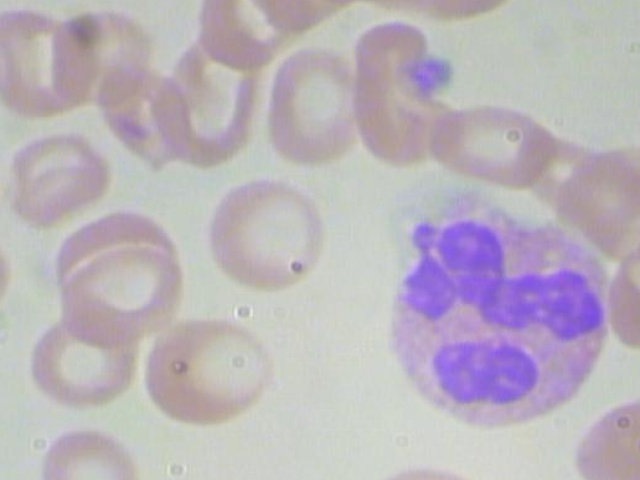RBC: (206, 177, 335, 296), (56, 223, 185, 342), (146, 315, 270, 426), (3, 120, 117, 231), (27, 299, 141, 410), (426, 93, 554, 185), (261, 46, 360, 163), (0, 1, 91, 115), (570, 386, 640, 480)
WBC: (379, 186, 623, 434)
